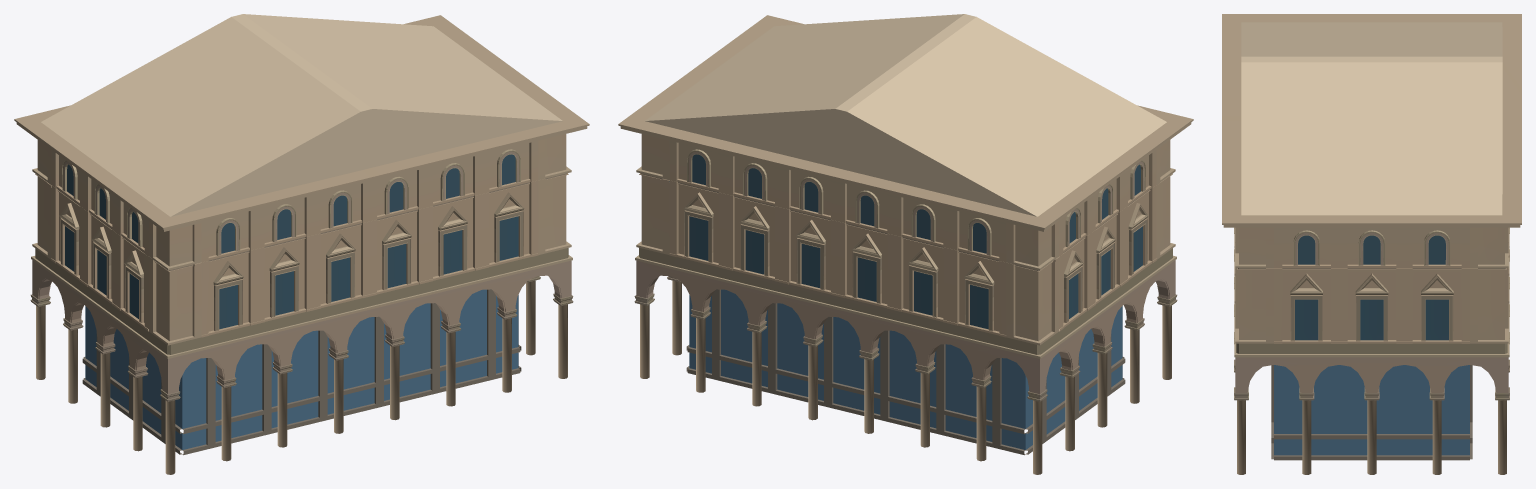
File: v2-buildings-arched-04.glb
The picture shows the model from 3 angles, left to right: view 1: azimuth 30°, elevation 25°; view 2: azimuth 150°, elevation 25°; view 3: azimuth 270°, elevation 25°; orthographic projection.
Visible parts, largest first — view 1: arched-building-04; view 2: arched-building-04; view 3: arched-building-04.
Boxes of the visible parts, left/top/right/bottom form: arched-building-04: left=14, top=14, right=589, bottom=474; arched-building-04: left=618, top=14, right=1193, bottom=474; arched-building-04: left=1222, top=14, right=1521, bottom=474.
Bounding box in the file's own units: 15.19 × 10.72 × 9.19.
Materials: 1 (1 with a texture image).
